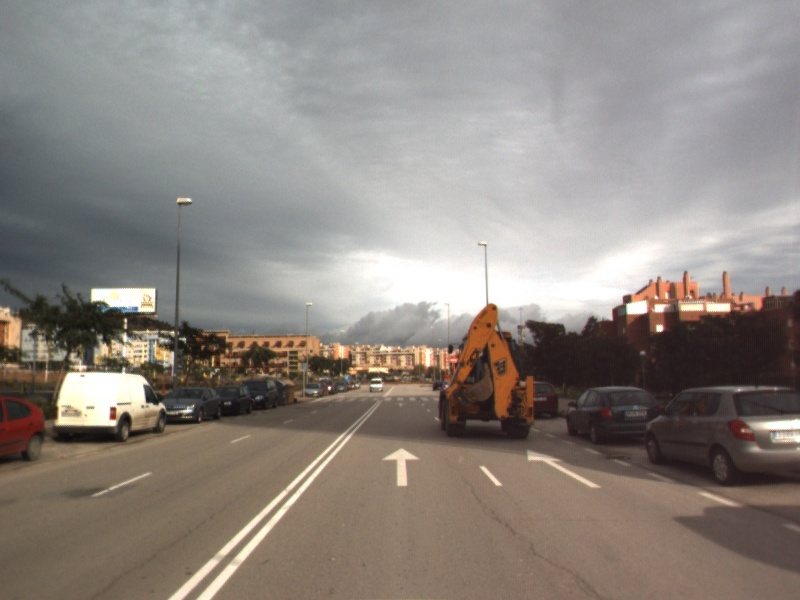STRAIGHT: (525, 447, 605, 490), (381, 446, 423, 488)
